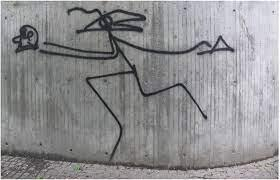graffiti: (14, 7, 241, 166)
